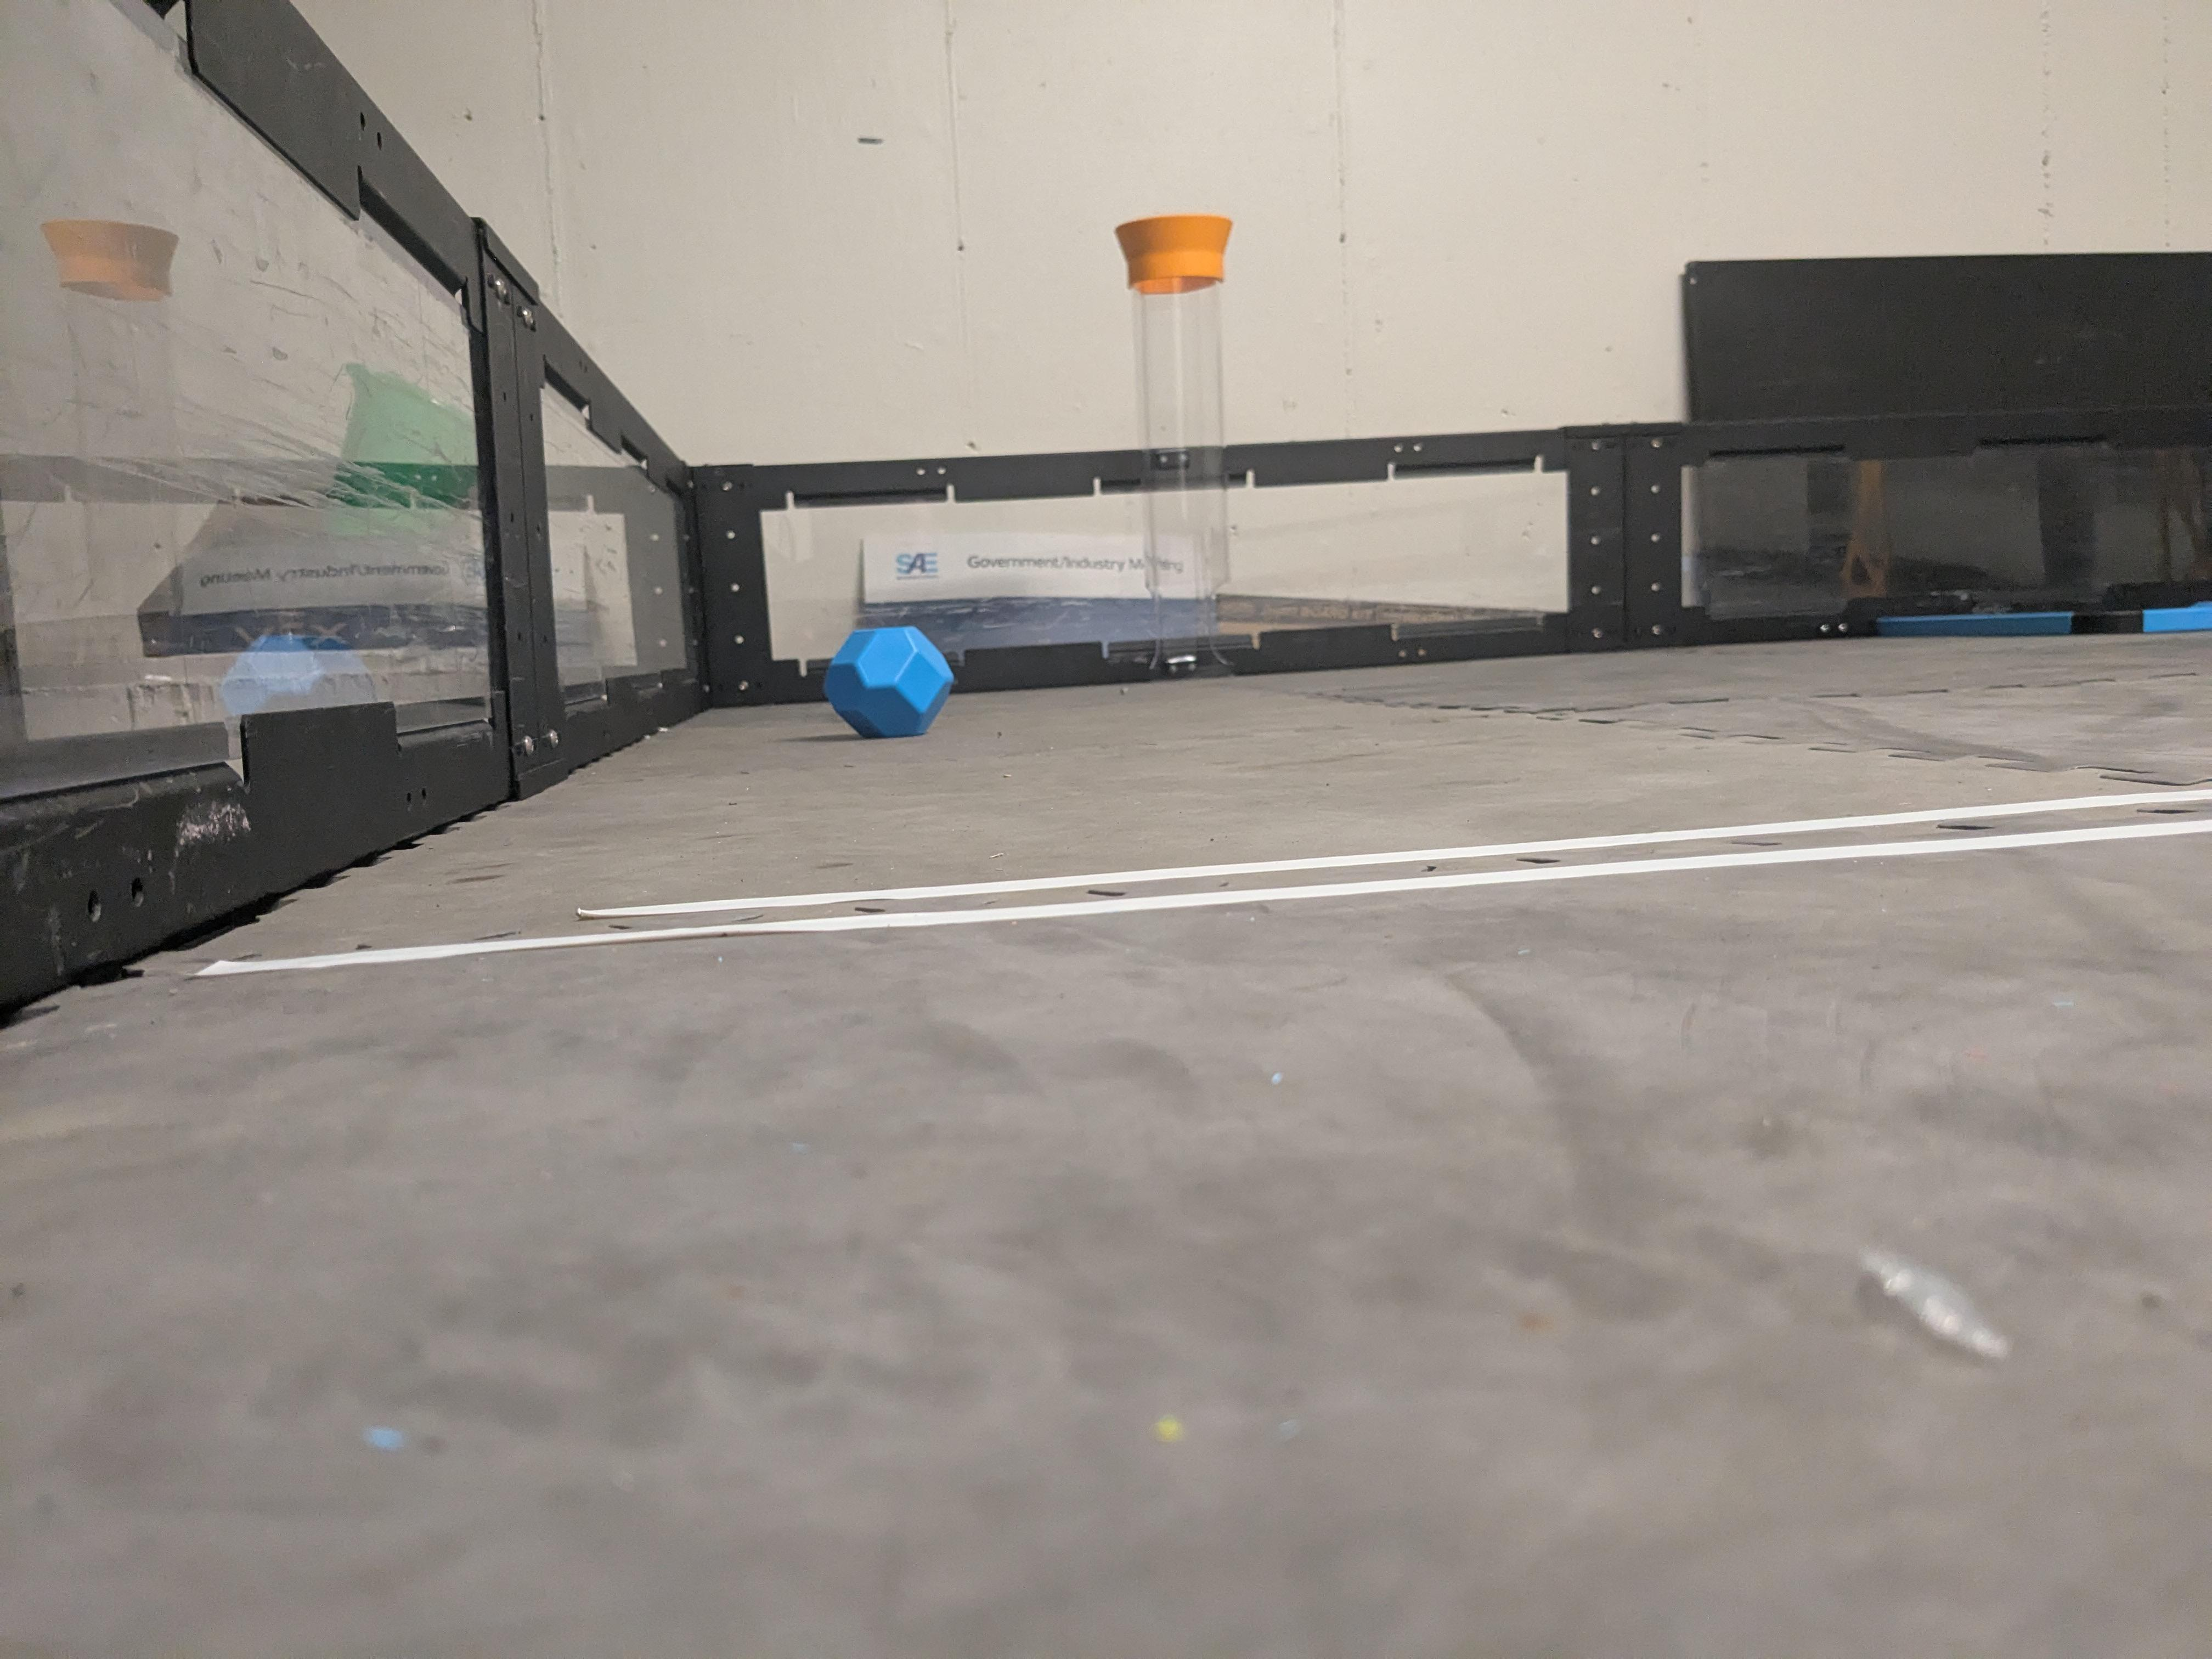Vex-Pieces-BLUE: (826, 629, 949, 739)
